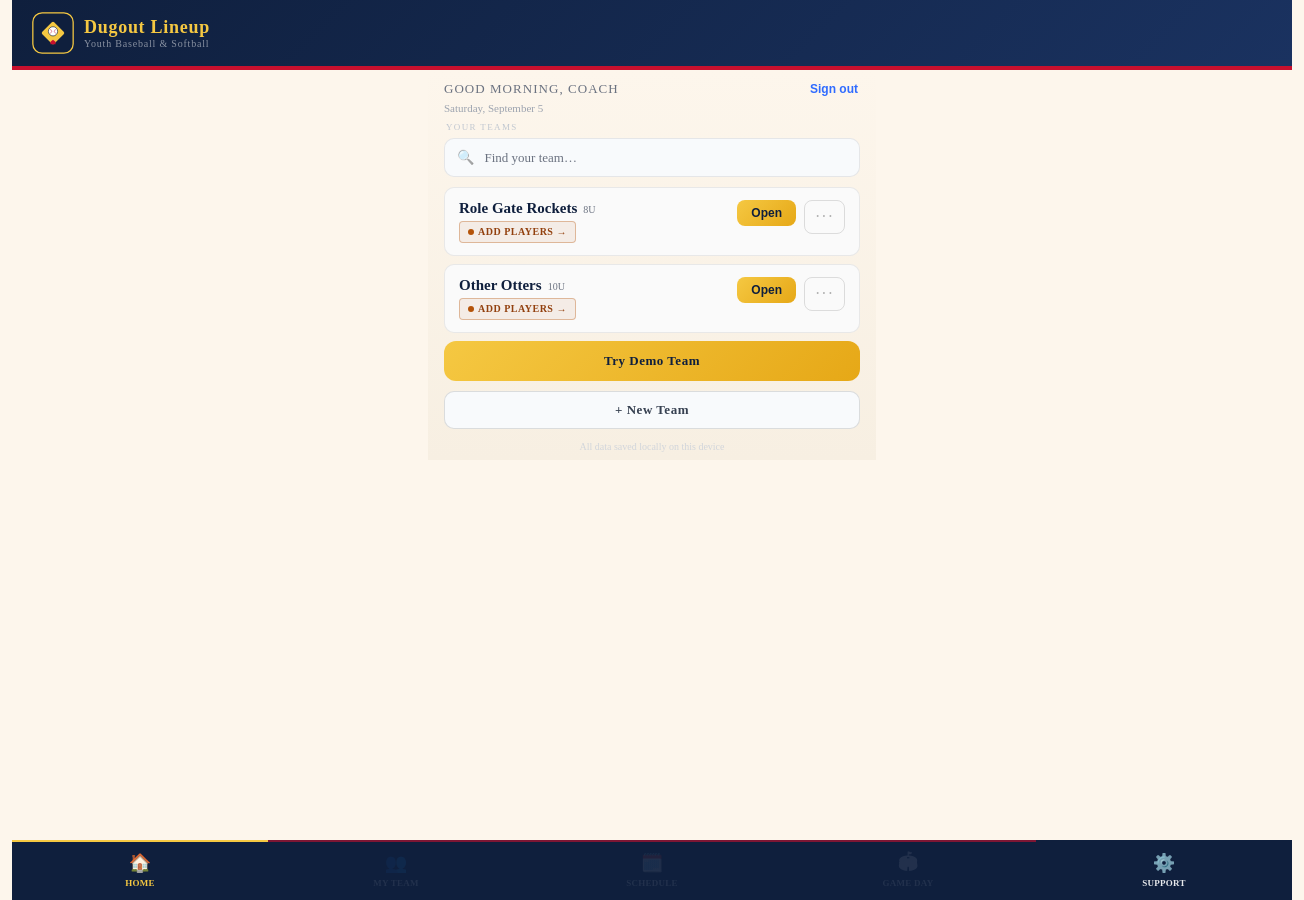
Test case: Home team card '···' menu — role-gated (#666) › viewer does not see Edit team or Delete team, but keeps Download backup
Click the button "···" in the row of "8U" at (824, 217), box [804,200,845,234]
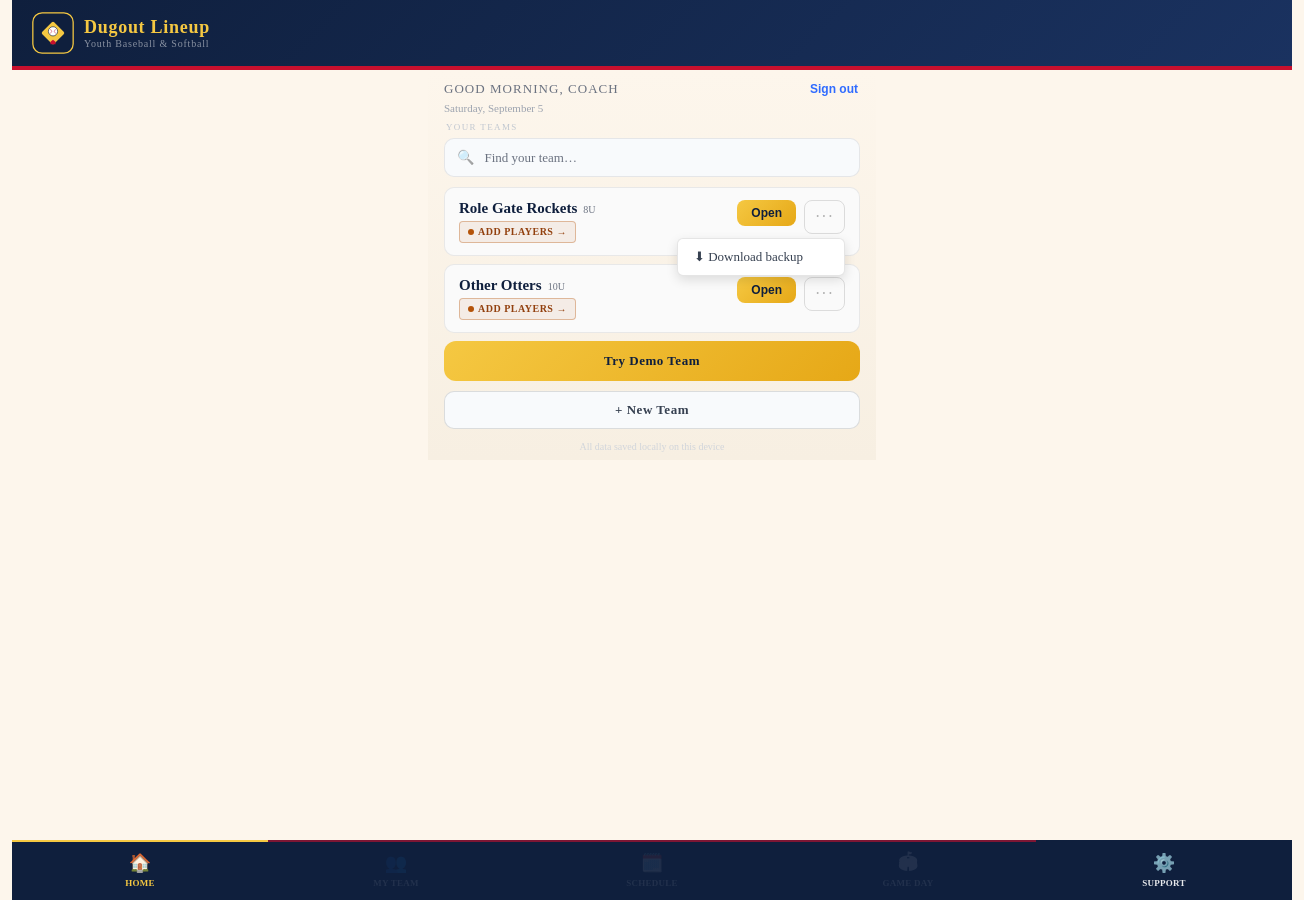
Result: the text "⬇ Download backup" is shown at [694,249,803,264]
